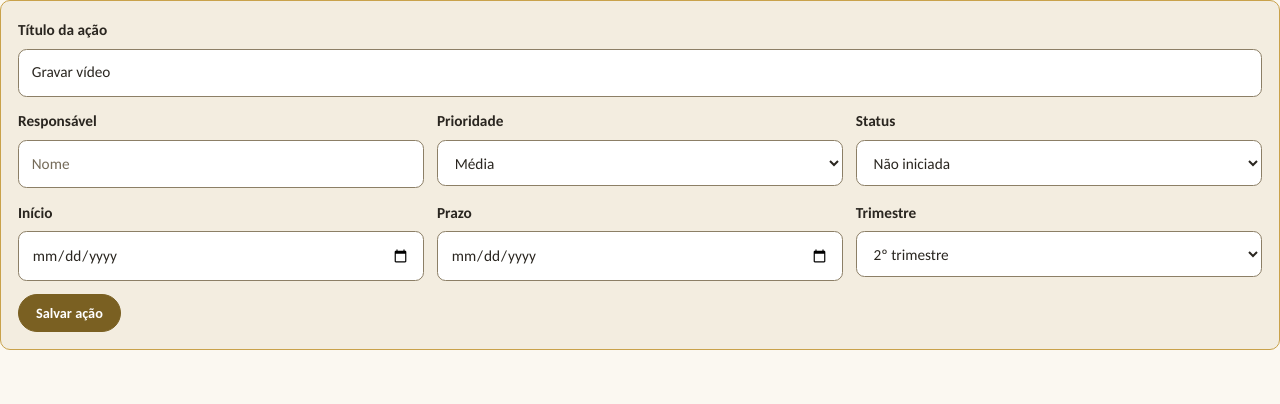
Test: prazo-antes-do-inicio
Type "2027-03-10" into the date field labelled "Início".
click(221, 256); type("2027-03-10")  # box 18,232 -> 424,281
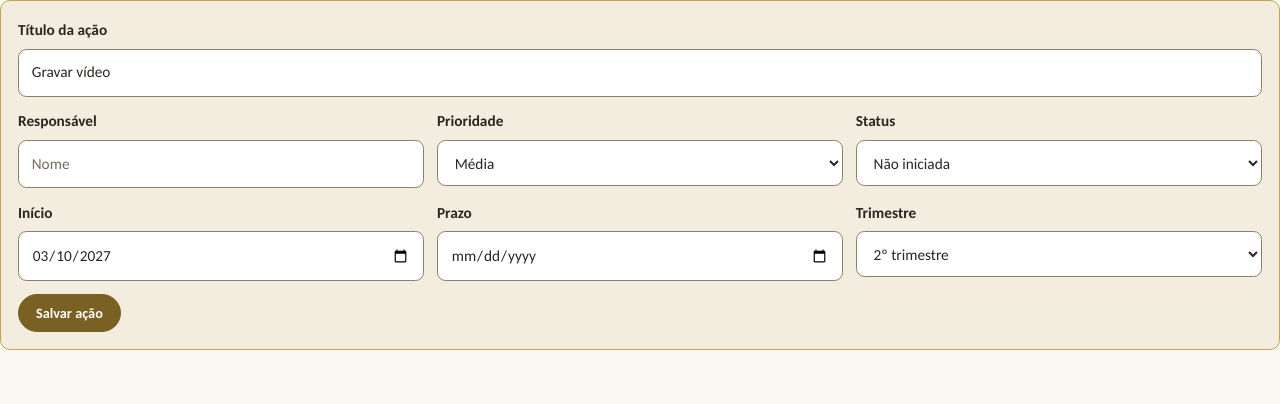
Type "2027-03-01" into the date field labelled "Prazo".
click(640, 256); type("2027-03-01")  # box 437,232 -> 843,281
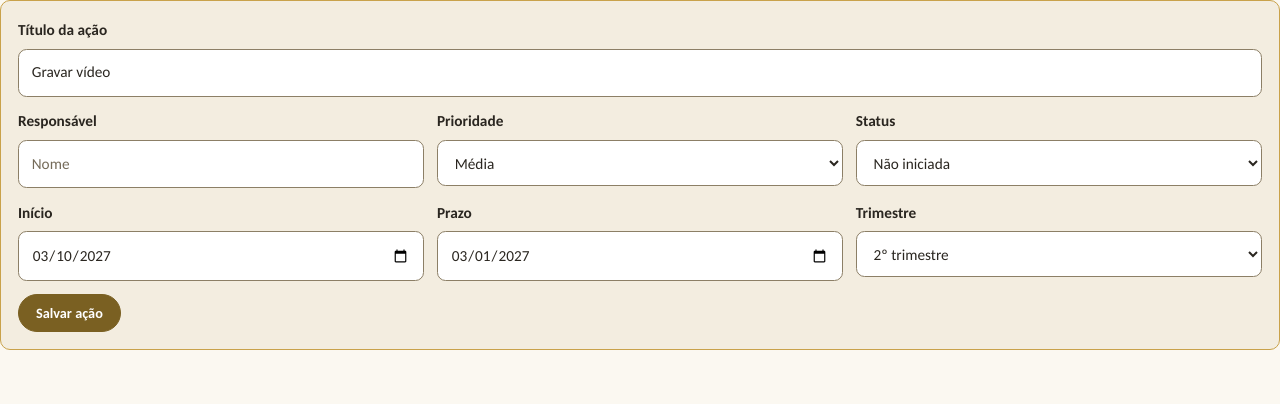
Click the button "Salvar ação".
click(69, 313)  # box 18,294 -> 121,332
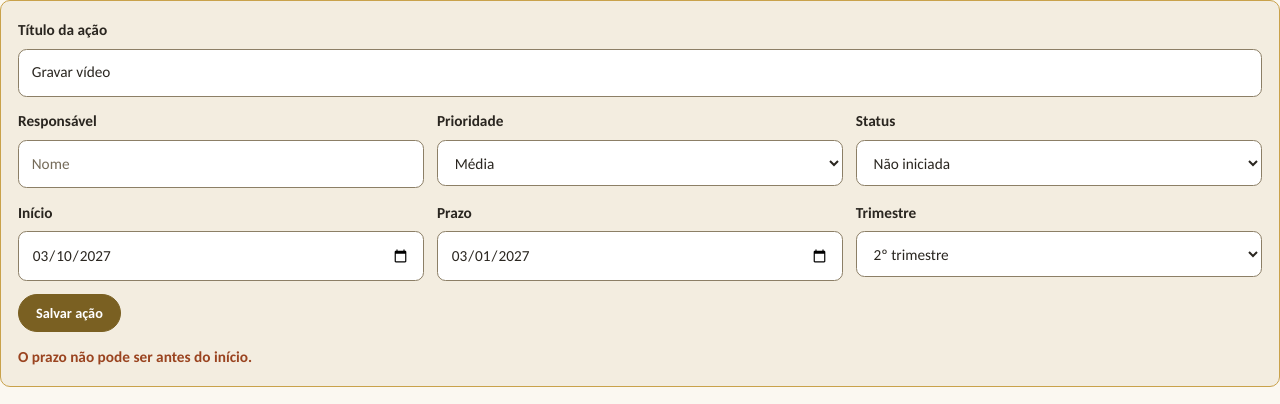
Now the message reads "O prazo não pode ser antes do início.", box 18,347 -> 252,366
